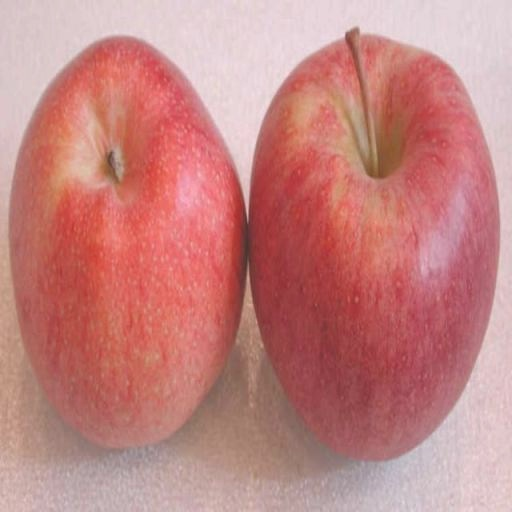fruit: (249, 31, 499, 459), (9, 38, 246, 447)
